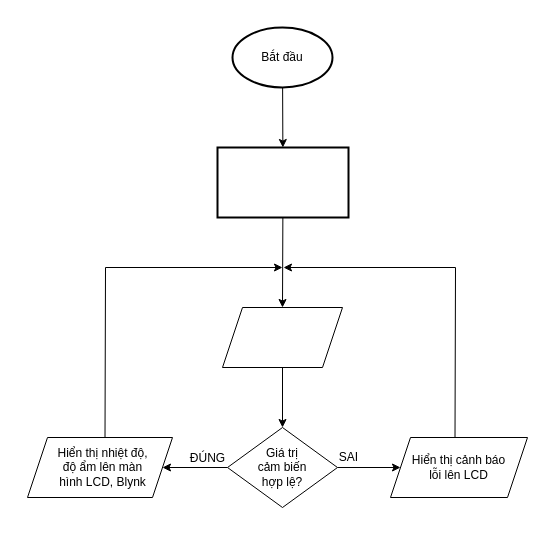
The diagram is 554 pixels wide and 534 high, and some of its shapes have lost their labels. Each missing label, with the centre of its shape:
"khởi tạo cảm biến DHT22" goes at point 282,182.
"Đọc giá trị cảm biến" goes at point 282,337.
